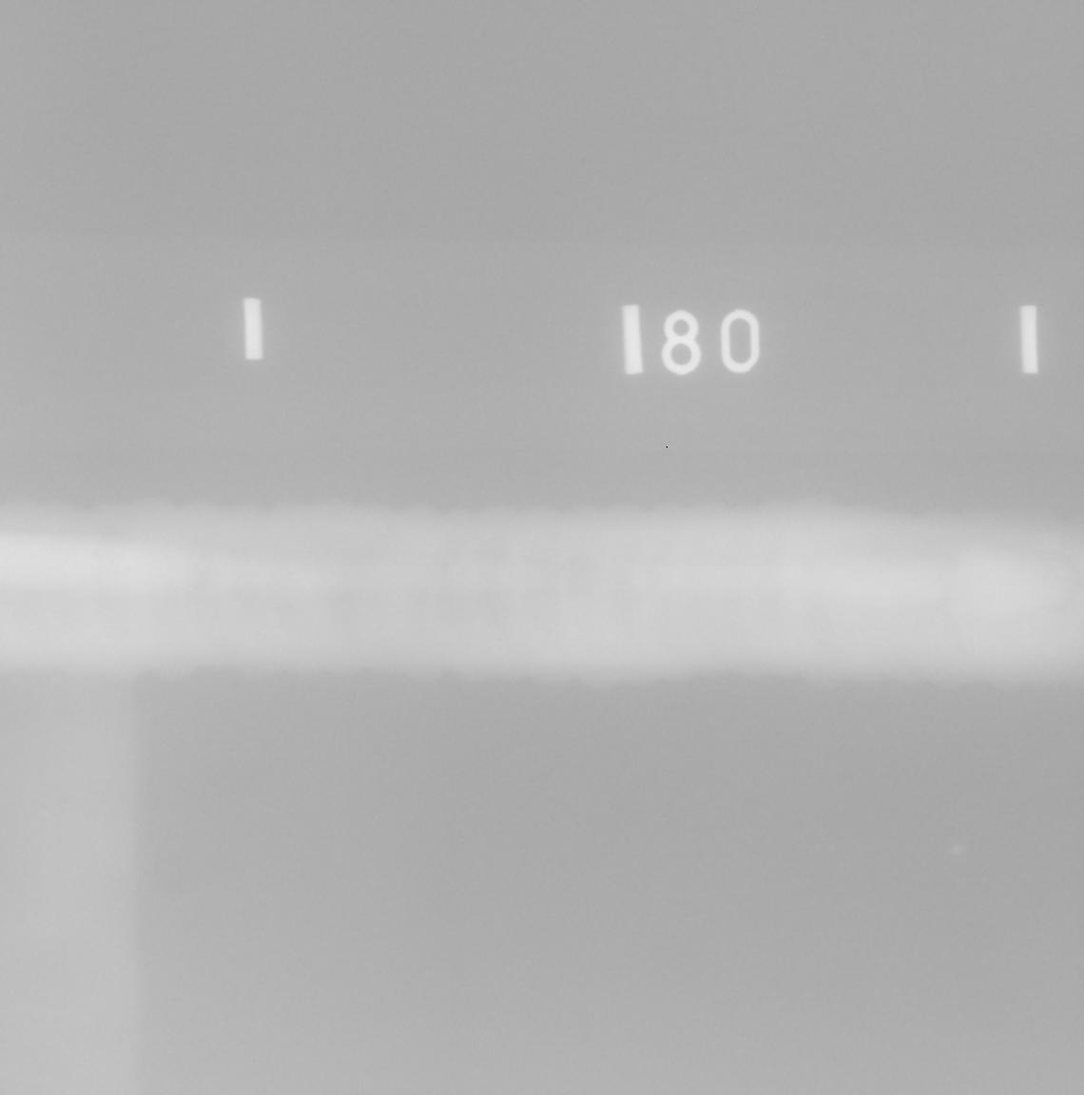Inclusion: (723, 599, 736, 607), (443, 563, 449, 576)
Pore/Porosity: (93, 552, 99, 559), (46, 660, 50, 666), (4, 590, 8, 595), (126, 568, 130, 572), (14, 583, 19, 586)
